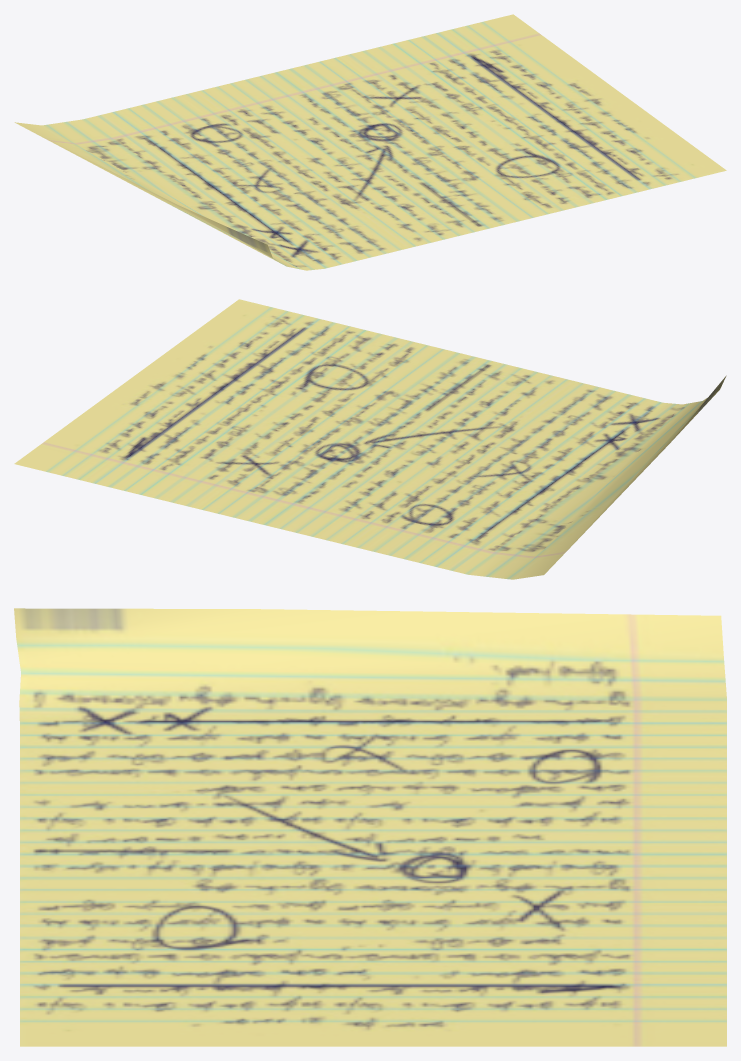
The model's file is paper-yellow-scribbled.glb.
3 renders of one model, top to bottom at view 1: azimuth 30°, elevation 25°; view 2: azimuth 150°, elevation 25°; view 3: azimuth 270°, elevation 25°, orthographic. The views are drawn at different scales.
Parts seen in each view (by area): view 1: PaperYellowScribbled; view 2: PaperYellowScribbled; view 3: PaperYellowScribbled.
Boxes of the visible parts, <box> form: PaperYellowScribbled: <box>14,14,726,270</box>; PaperYellowScribbled: <box>14,299,726,579</box>; PaperYellowScribbled: <box>14,608,726,1046</box>.
Size of the model in its own units: 0.2124 by 0.016 by 0.1581.
1 material, 1 textured.
